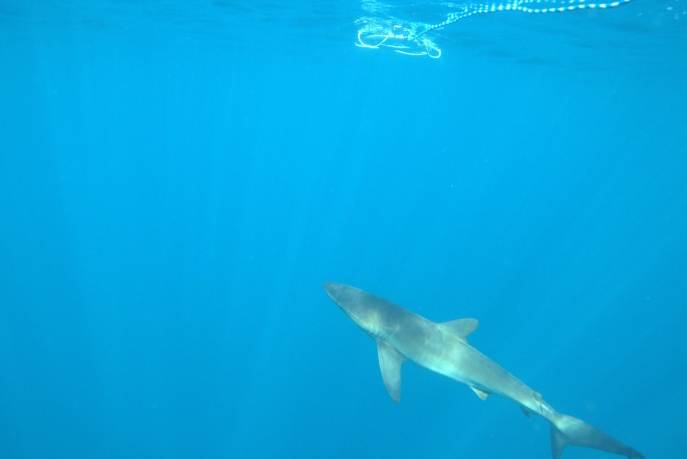Sedoso: (300, 263, 647, 459)
